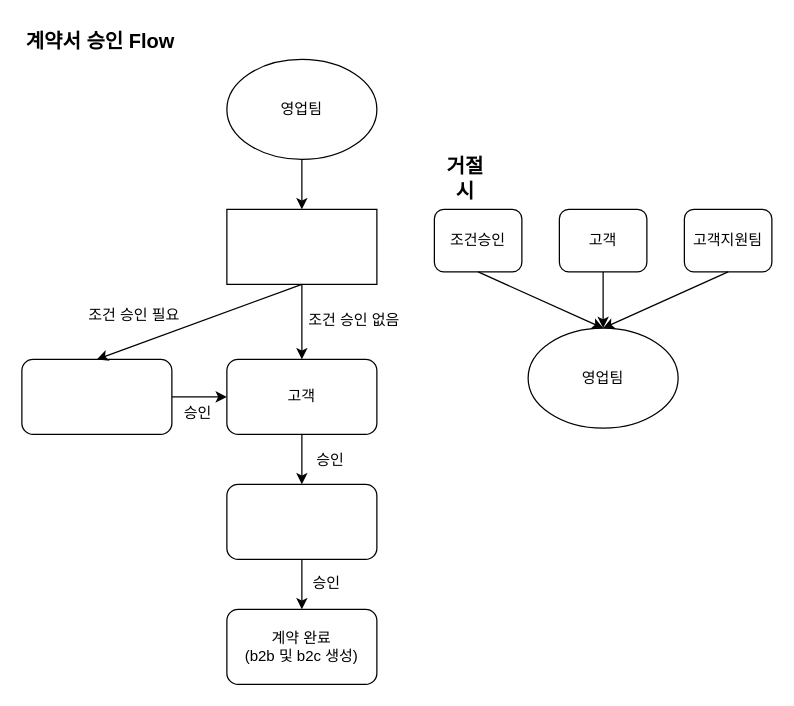
This 794x706 diagram has some shape labels left out. The shapes that lost their labels are listed below. From the top down, each one's centre as x and y in pixels, then its label:
[301,246]: 전자계약서 작성
[96,396]: 본부장, 대표
[301,521]: 고객지원팀 승인
